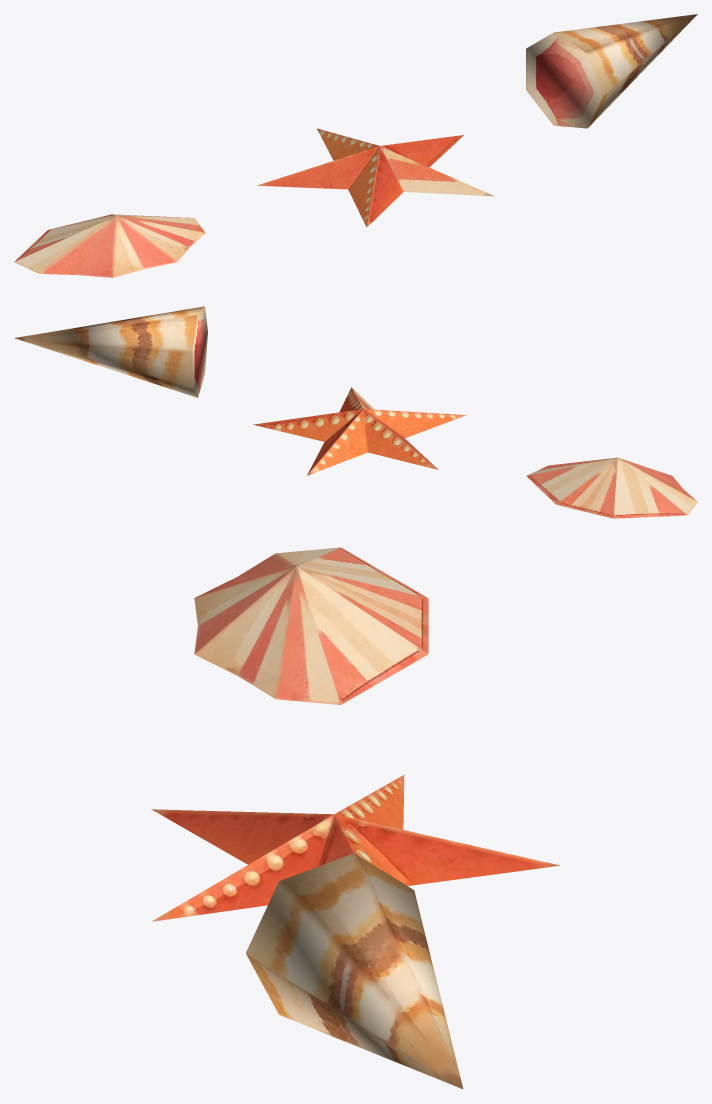
Rendered from shells.glb.
3 views of the same model, one above another, from view 1: azimuth 30°, elevation 25°; view 2: azimuth 150°, elevation 25°; view 3: azimuth 270°, elevation 25° (orthographic). The views are drawn at different scales.
Visible parts, largest first — view 1: shell_conch, starfish, shell_scallop; view 2: shell_conch, shell_scallop, starfish; view 3: shell_conch, shell_scallop, starfish.
Boxes of the visible parts, x1,y1,x2,y2 form: shell_conch: [526, 14, 697, 128]; starfish: [257, 128, 494, 227]; shell_scallop: [14, 214, 205, 277]; shell_conch: [14, 306, 207, 397]; shell_scallop: [526, 457, 697, 518]; starfish: [253, 387, 466, 475]; shell_conch: [246, 853, 463, 1088]; shell_scallop: [194, 547, 428, 704]; starfish: [151, 775, 559, 921].
Bounding box in the file's own units: 0.7867 × 0.0987 × 0.2171.
Materials: 1 (1 with a texture image).
